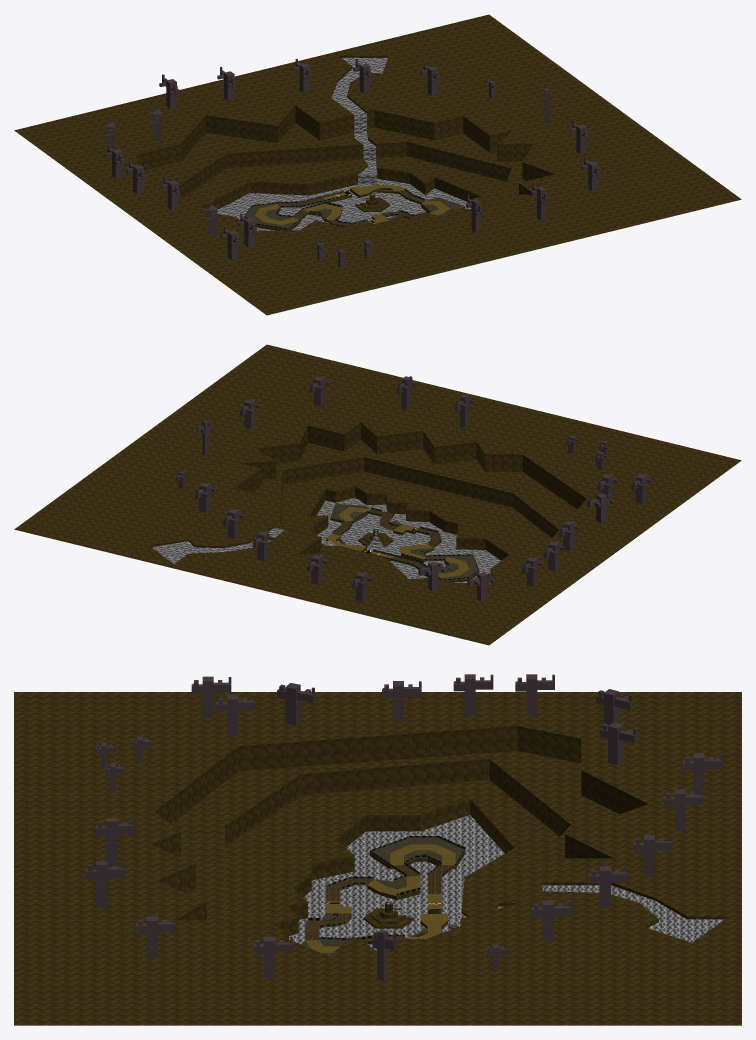
The picture shows the model from 3 angles, top to bottom: view 1: azimuth 30°, elevation 25°; view 2: azimuth 150°, elevation 25°; view 3: azimuth 270°, elevation 25°; orthographic projection. The views are drawn at different scales.
Parts seen in each view (by area): view 1: course-SKP--rockwall, course-SKP--tree, course-SKP--lava, course-SKP--dirtroad, course-SKP--fence.004, course-SKP--offroad.002, course-SKP--woodroad; view 2: course-SKP--rockwall, course-SKP--tree, course-SKP--lava, course-SKP--dirtroad, course-SKP--fence.004, course-SKP--offroad.002, course-SKP--woodroad; view 3: course-SKP--rockwall, course-SKP--tree, course-SKP--lava, course-SKP--dirtroad, course-SKP--woodroad, course-SKP--offroad.002, course-SKP--fence.004.
Boxes of the visible parts, bbox=[...] form: course-SKP--rockwall: bbox=[14, 14, 741, 315]; course-SKP--tree: bbox=[103, 59, 600, 267]; course-SKP--lava: bbox=[217, 57, 470, 230]; course-SKP--dirtroad: bbox=[255, 184, 450, 224]; course-SKP--fence.004: bbox=[244, 188, 435, 230]; course-SKP--offroad.002: bbox=[245, 190, 464, 228]; course-SKP--woodroad: bbox=[271, 190, 431, 226]; course-SKP--rockwall: bbox=[14, 344, 741, 645]; course-SKP--tree: bbox=[176, 376, 652, 601]; course-SKP--lava: bbox=[151, 497, 500, 583]; course-SKP--dirtroad: bbox=[326, 506, 469, 577]; course-SKP--fence.004: bbox=[332, 507, 479, 580]; course-SKP--offroad.002: bbox=[330, 503, 478, 579]; course-SKP--woodroad: bbox=[332, 509, 451, 569]; course-SKP--rockwall: bbox=[14, 692, 741, 1025]; course-SKP--tree: bbox=[85, 674, 722, 980]; course-SKP--lava: bbox=[289, 815, 724, 950]; course-SKP--dirtroad: bbox=[305, 844, 455, 952]; course-SKP--woodroad: bbox=[305, 853, 451, 942]; course-SKP--offroad.002: bbox=[301, 838, 463, 955]; course-SKP--fence.004: bbox=[307, 836, 465, 944].
Size of the model in its own units: 202075 by 31198 by 186285.
Materials: 11 (11 with a texture image).
